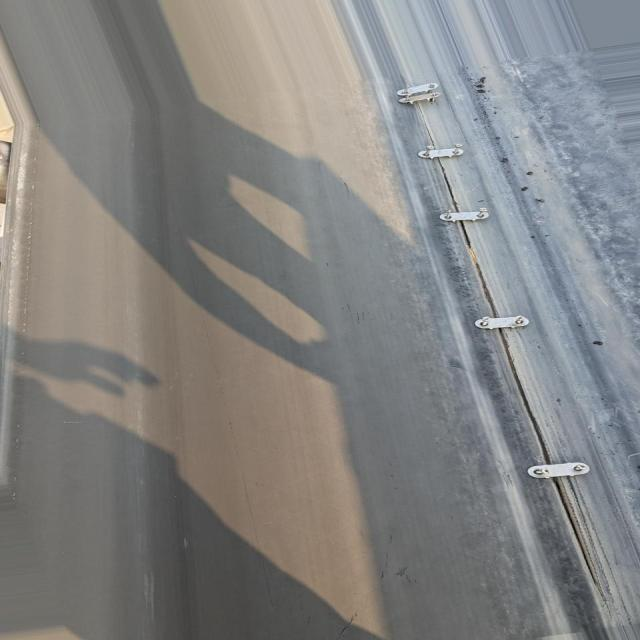patch work: (390, 75, 607, 590)
